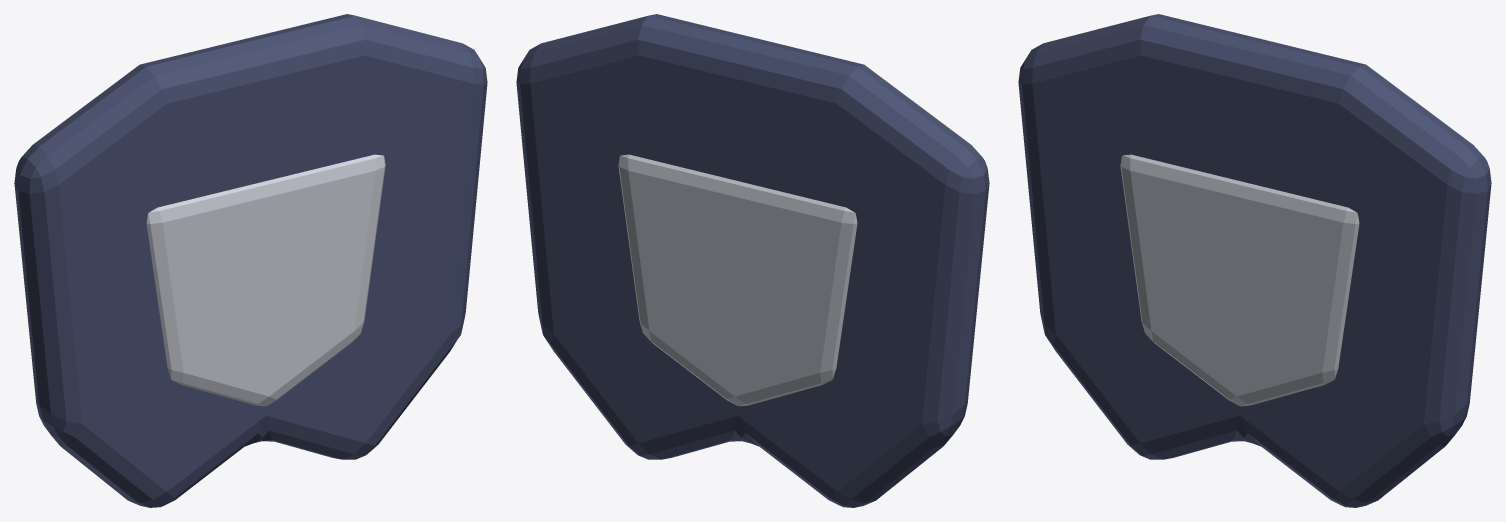
Rendered from mat_alphapelt.glb.
3 views of the same model, side by side, from view 1: azimuth 30°, elevation 25°; view 2: azimuth 150°, elevation 25°; view 3: azimuth 330°, elevation 25° (orthographic).
Parts seen in each view (by area): view 1: _profile; view 2: _profile; view 3: _profile.
Part boxes in pixels (bbox=[...]): _profile: bbox=[14, 14, 487, 507]; _profile: bbox=[516, 14, 989, 507]; _profile: bbox=[1018, 14, 1491, 507].
Bounding box in the file's own units: 0.89 × 0.8046 × 0.12.
